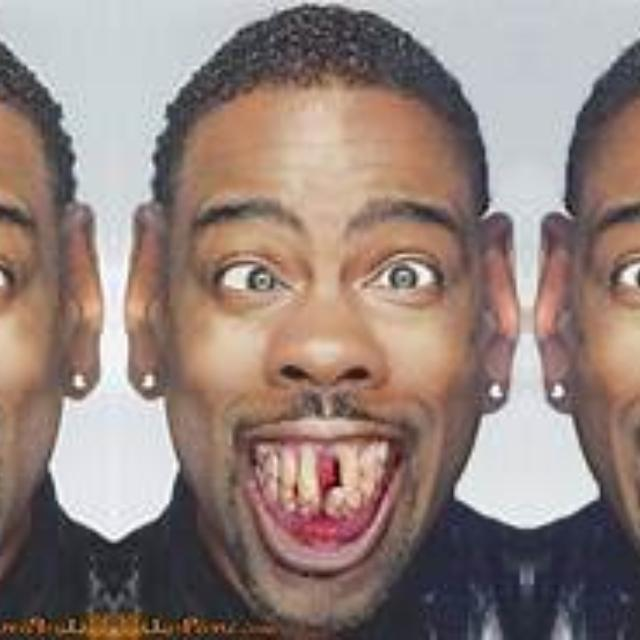person: (127, 14, 527, 640), (527, 14, 640, 640), (0, 14, 99, 640)
